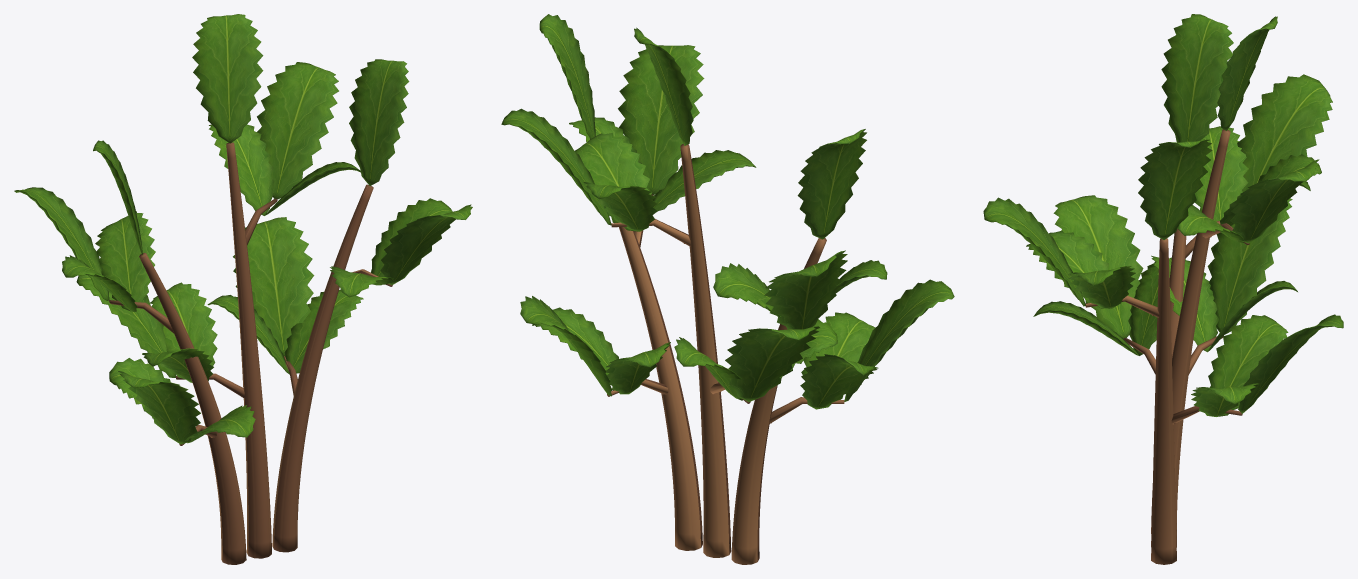
File: NP_Raspberry_Young.fbx
3 renders of one model, left to right at view 1: azimuth 30°, elevation 25°; view 2: azimuth 150°, elevation 25°; view 3: azimuth 270°, elevation 25°, orthographic. The views are drawn at different scales.
Visible parts, largest first — view 1: NP_Raspberry_Young; view 2: NP_Raspberry_Young; view 3: NP_Raspberry_Young.
Boxes of the visible parts, x1,y1,x2,y2 form: NP_Raspberry_Young: (14, 14, 472, 564); NP_Raspberry_Young: (501, 14, 954, 564); NP_Raspberry_Young: (983, 14, 1343, 564).
Size of the model in its own units: 45.96 by 65.16 by 39.96.
